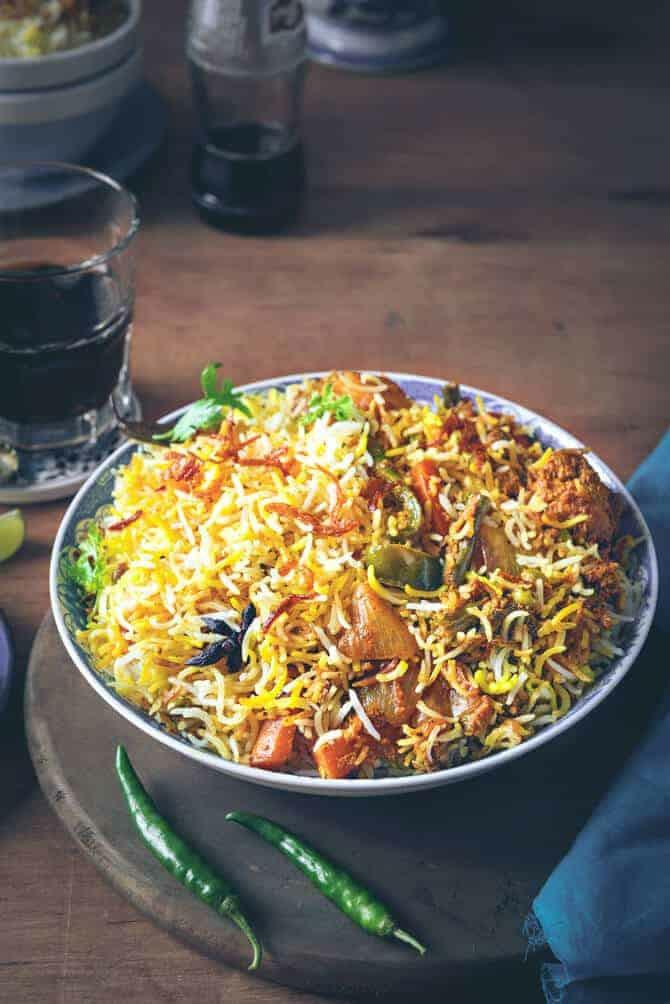Biryani: (81, 366, 621, 776)
